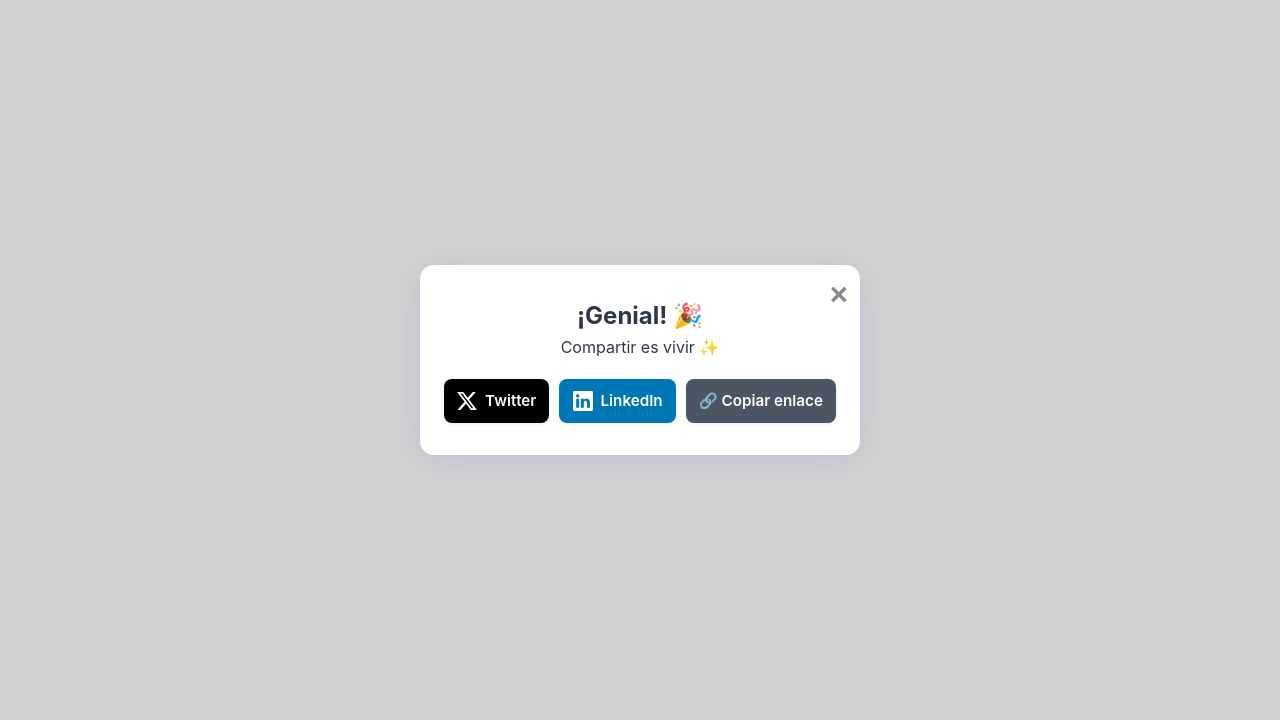
Test: ShareModal: copiar enlace › copia la URL del artículo y lo confirma
The width and height of the screenshot is (1280, 720).
Click the button "🔗 Copiar enlace" at (761, 401), box top-left (686, 379), bottom-right (836, 423)
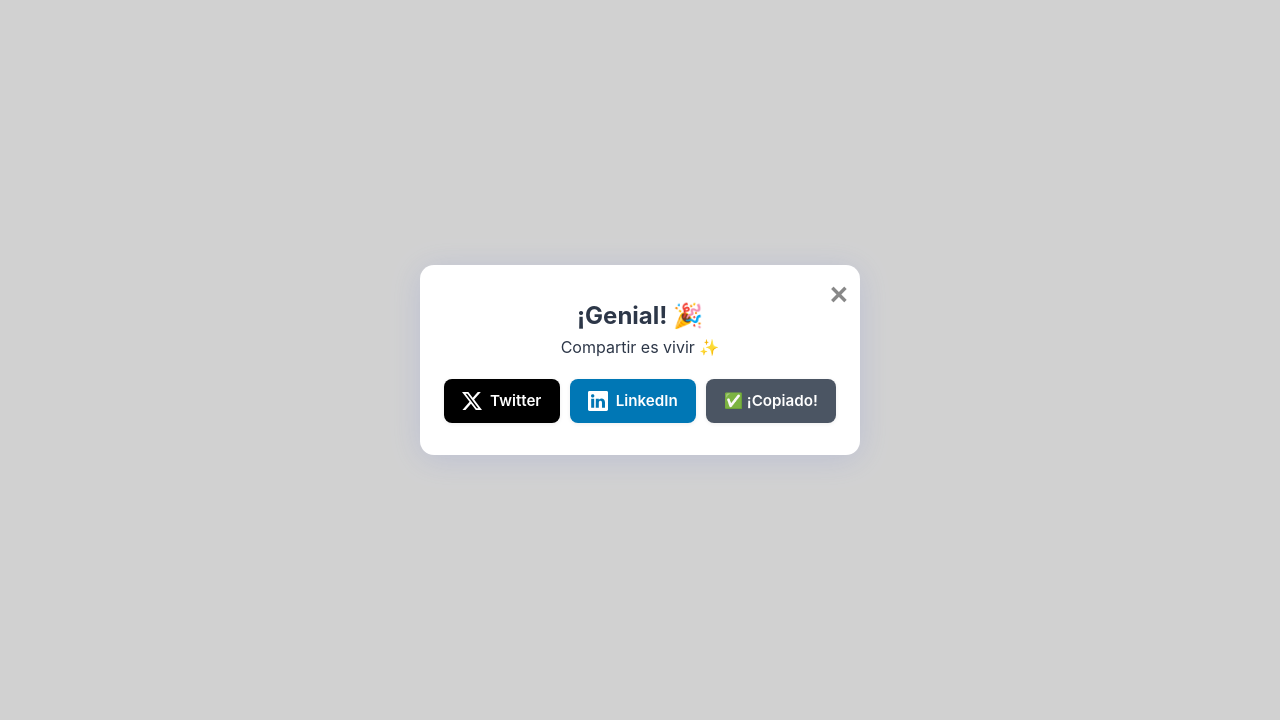
Check: the button "✅ ¡Copiado!" is shown, box top-left (706, 379), bottom-right (836, 423)
